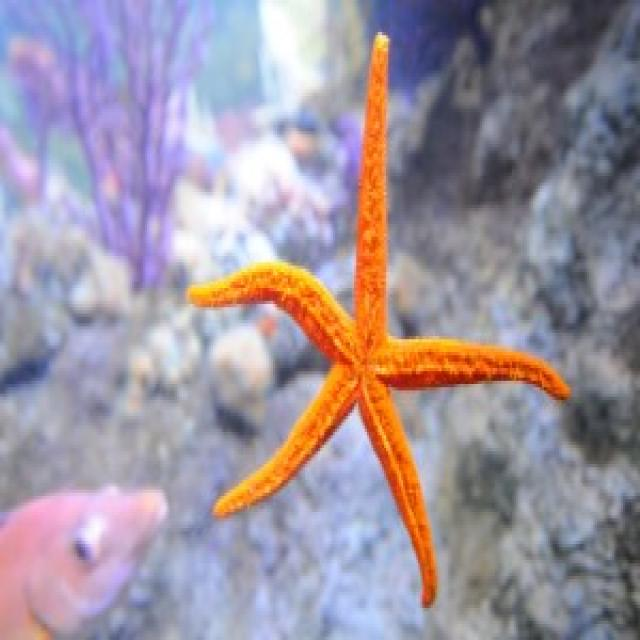Starfish: (179, 32, 575, 605)
